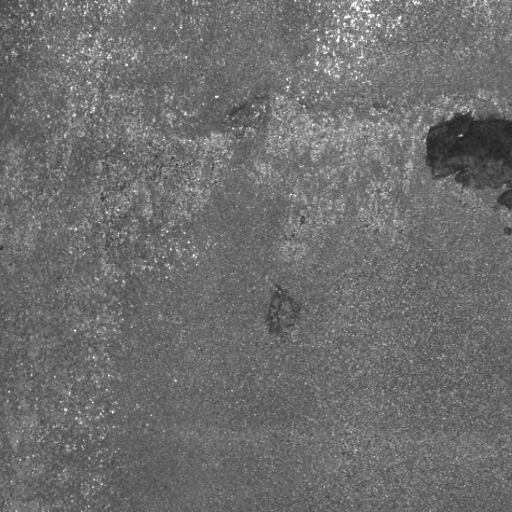aokeng: (425, 109, 512, 207)
